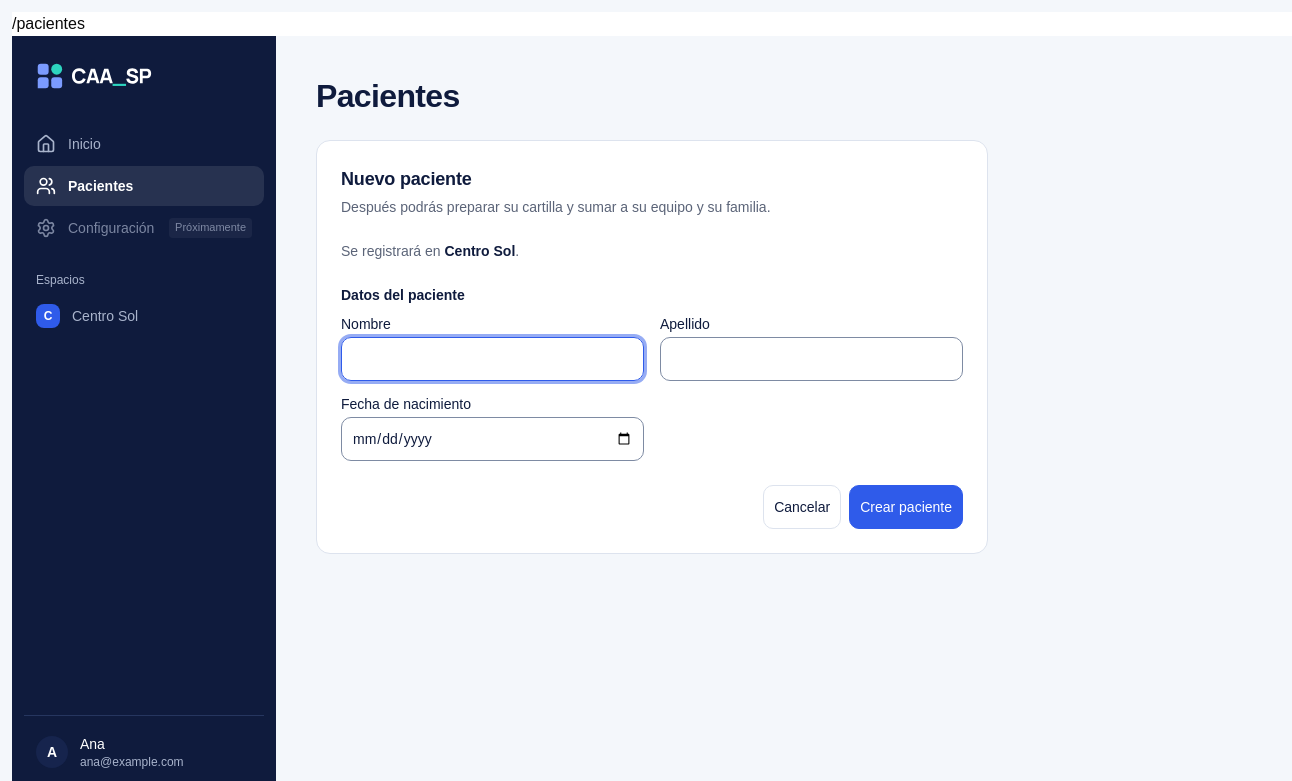
Scenario: registering a patient › cancelling leaves the list and the URL as if the form had never opened
Click the button "Cancelar": (802, 507) [763,485,841,529]
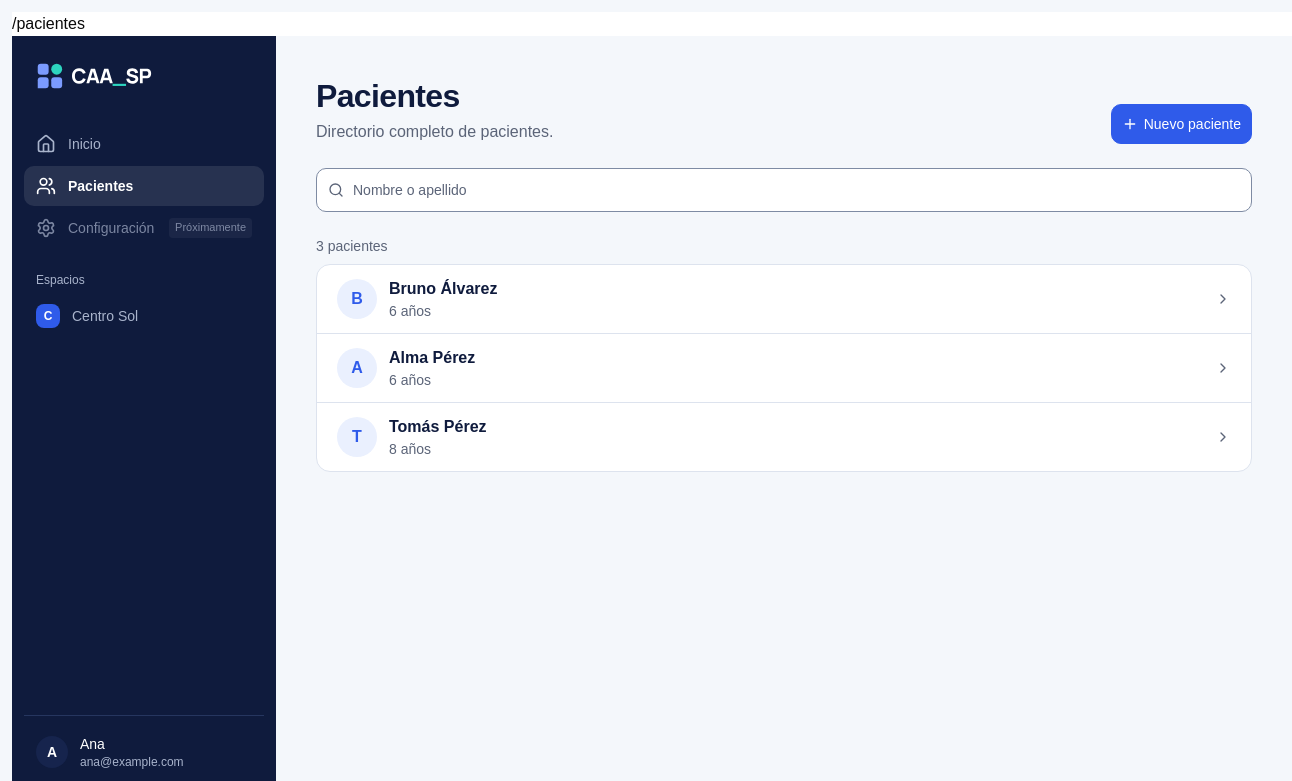
Expected: the text with test id "location" reads "/pacientes", [12,15,85,32]
Expected: the element named "Listado de pacientes" is shown, [316,236,1252,472]
